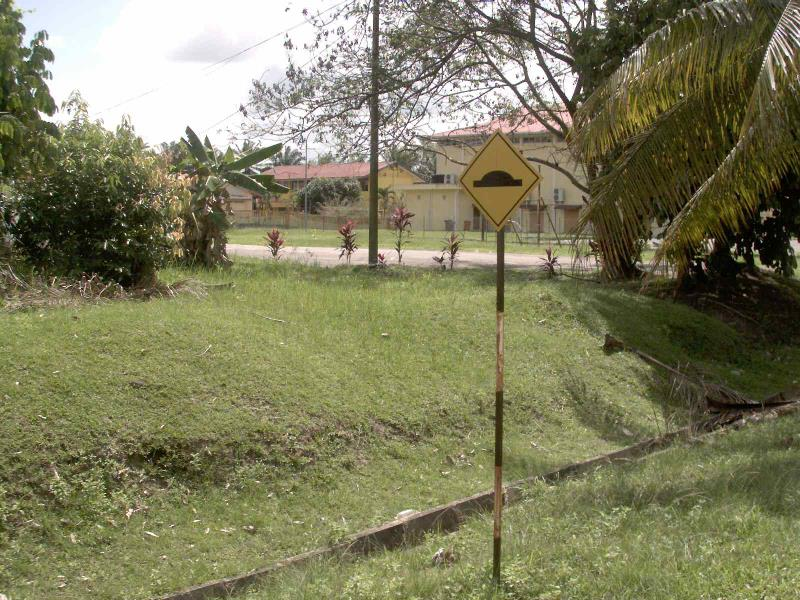traffic_sign: (454, 125, 544, 239)
